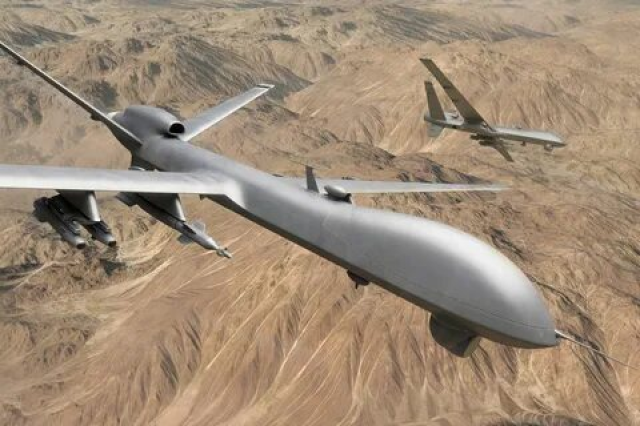military drone: (0, 40, 640, 373), (418, 57, 566, 162)
